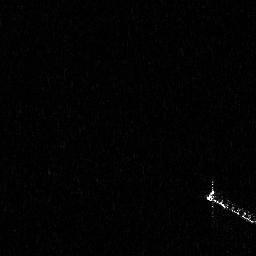ship: (202, 176, 256, 229)
